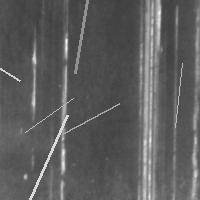scratches: (133, 1, 163, 199), (25, 110, 72, 200), (56, 26, 73, 199), (58, 99, 124, 139), (20, 93, 78, 137), (70, 0, 92, 78), (26, 32, 41, 124), (170, 58, 187, 132), (0, 58, 25, 86)
